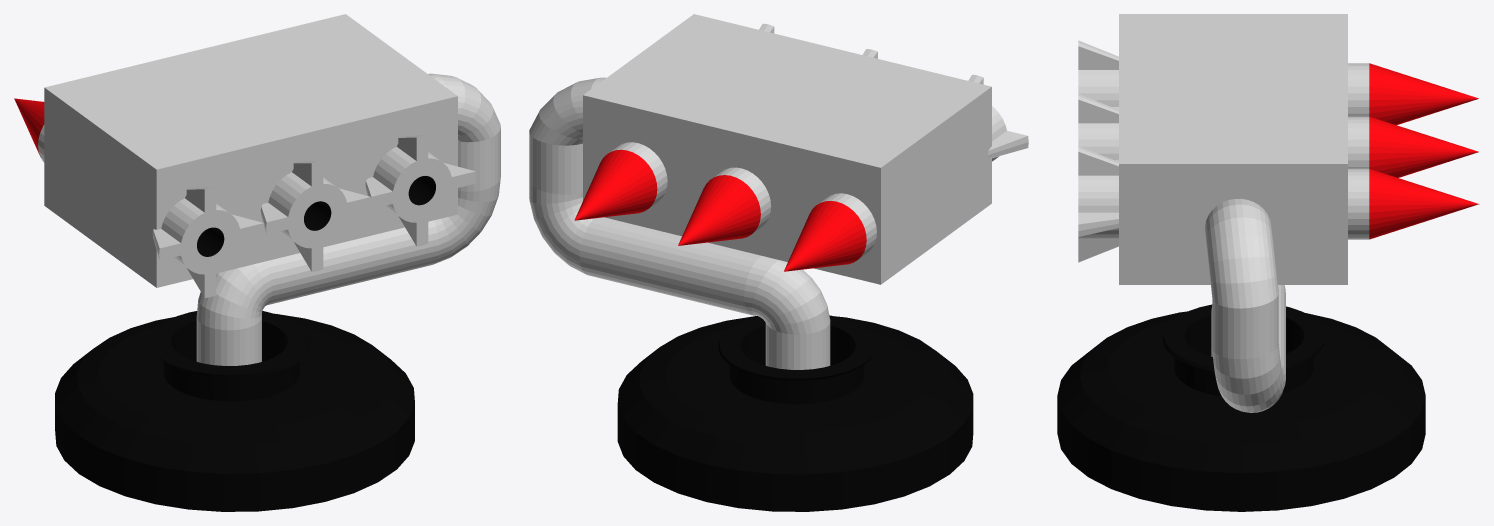
File: lumber1.glb
3 renders of one model, left to right at view 1: azimuth 30°, elevation 25°; view 2: azimuth 150°, elevation 25°; view 3: azimuth 270°, elevation 25°, orthographic. The views are drawn at different scales.
Visible parts, largest first — view 1: Box, Base, Rotor, Rocket3, Rocket2, Rocket1; view 2: Box, Base, Rotor, Rocket3, Rocket1, Rocket2; view 3: Box, Base, Rotor, Rocket1, Rocket3, Rocket2.
Part boxes in pixels (x1,y1,x2,y2): Box: [44, 14, 457, 287]; Base: [55, 311, 414, 511]; Rotor: [196, 73, 500, 365]; Rocket3: [14, 98, 264, 297]; Rocket2: [260, 160, 371, 271]; Rocket1: [365, 135, 476, 246]; Box: [583, 14, 991, 284]; Base: [617, 315, 973, 511]; Rotor: [529, 77, 830, 369]; Rocket3: [784, 74, 1028, 271]; Rocket1: [574, 23, 774, 220]; Rocket2: [678, 49, 877, 245]; Box: [1119, 14, 1347, 284]; Base: [1057, 304, 1425, 511]; Rotor: [1205, 199, 1285, 412]; Rocket1: [1078, 146, 1479, 262]; Rocket3: [1078, 40, 1478, 125]; Rocket2: [1078, 94, 1478, 177].
Bounding box in the file's own units: 13.94 × 10.92 × 11.9.
